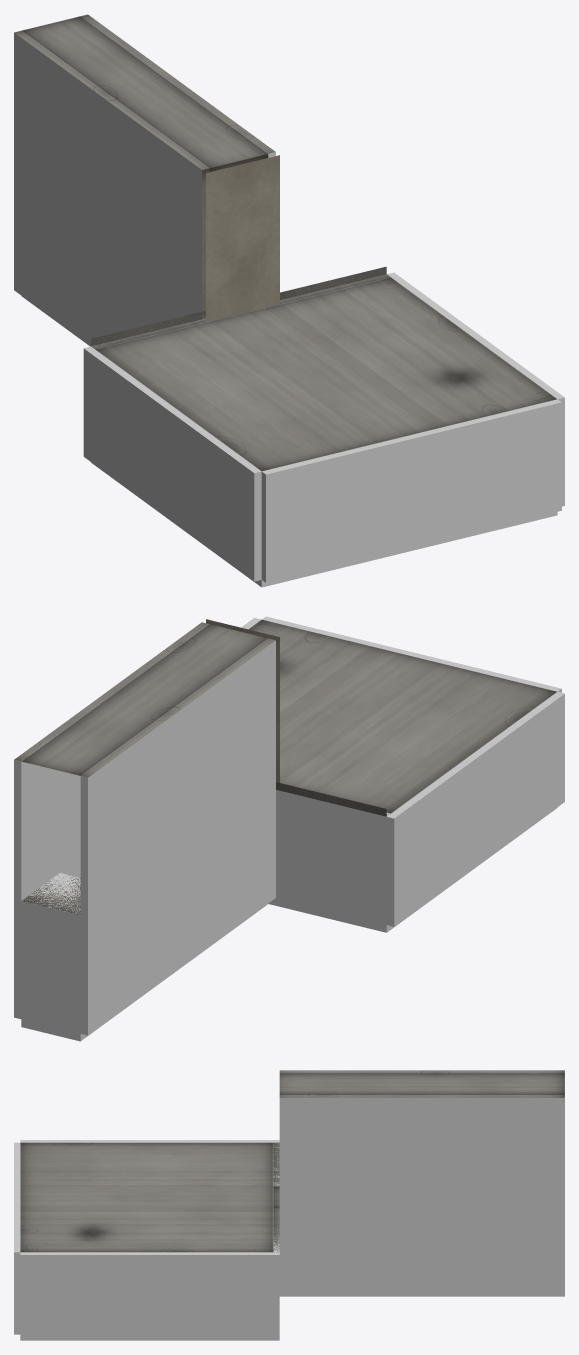
File: basement.glb
3 renders of one model, top to bottom at view 1: azimuth 30°, elevation 25°; view 2: azimuth 150°, elevation 25°; view 3: azimuth 270°, elevation 25°, orthographic. The views are drawn at different scales.
Parts seen in each view (by area): view 1: Basement_Shell, COL_Stairwell_Wall_South, COL_Room_Wall_East, Basement_Walls, COL_Room_Wall_South, COL_Room_Wall_North, COL_Room_Floor; view 2: COL_Stairwell_Wall_South, Basement_Shell, COL_Room_Wall_South, Basement_Walls, COL_Room_Wall_West_South, COL_Landing_Upper, COL_Stairwell_Wall_North, COL_Room_Wall_East, COL_Room_Floor; view 3: COL_Stairwell_Wall_North, Basement_Shell, COL_Room_Wall_North, Basement_Walls, COL_Room_Wall_East, COL_Room_Floor, COL_Room_Wall_South.
Boxes of the visible parts, x1,y1,x2,y2 form: Basement_Shell: [91, 266, 556, 471]; COL_Stairwell_Wall_South: [14, 32, 201, 346]; COL_Room_Wall_East: [261, 399, 561, 582]; Basement_Walls: [14, 14, 279, 322]; COL_Room_Wall_South: [83, 346, 261, 581]; COL_Room_Wall_North: [387, 272, 564, 506]; COL_Room_Floor: [91, 462, 557, 587]; COL_Stairwell_Wall_South: [80, 640, 275, 1035]; Basement_Shell: [22, 619, 557, 915]; COL_Room_Wall_South: [386, 692, 564, 926]; Basement_Walls: [14, 619, 279, 782]; COL_Room_Wall_West_South: [276, 790, 390, 924]; COL_Landing_Upper: [21, 873, 118, 1041]; COL_Stairwell_Wall_North: [14, 741, 80, 1018]; COL_Room_Wall_East: [262, 616, 561, 692]; COL_Room_Floor: [268, 807, 557, 932]; COL_Stairwell_Wall_North: [279, 1098, 564, 1293]; Basement_Shell: [20, 1142, 279, 1252]; COL_Room_Wall_North: [20, 1252, 279, 1337]; Basement_Walls: [279, 1070, 564, 1097]; COL_Room_Wall_East: [14, 1142, 20, 1334]; COL_Room_Floor: [20, 1337, 279, 1340]; COL_Room_Wall_South: [20, 1140, 279, 1142].
Size of the model in its own units: 8.4 by 6.86 by 17.
Materials: 21 (7 with a texture image).
